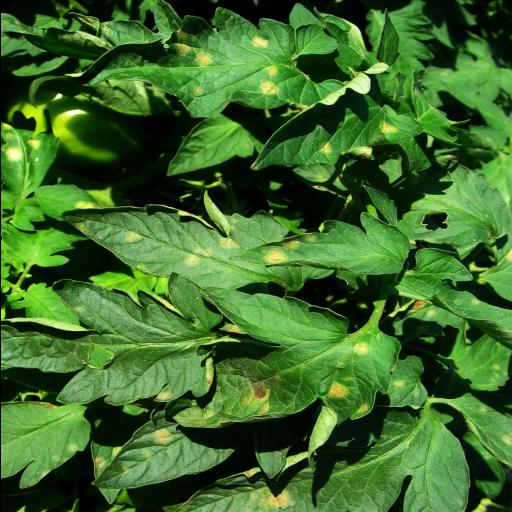Healthy: (165, 116, 254, 176)
Leaf Mold: (167, 288, 403, 442), (81, 7, 348, 109), (62, 191, 308, 291), (247, 60, 422, 170), (86, 416, 234, 490), (231, 220, 411, 276), (0, 119, 59, 199)
